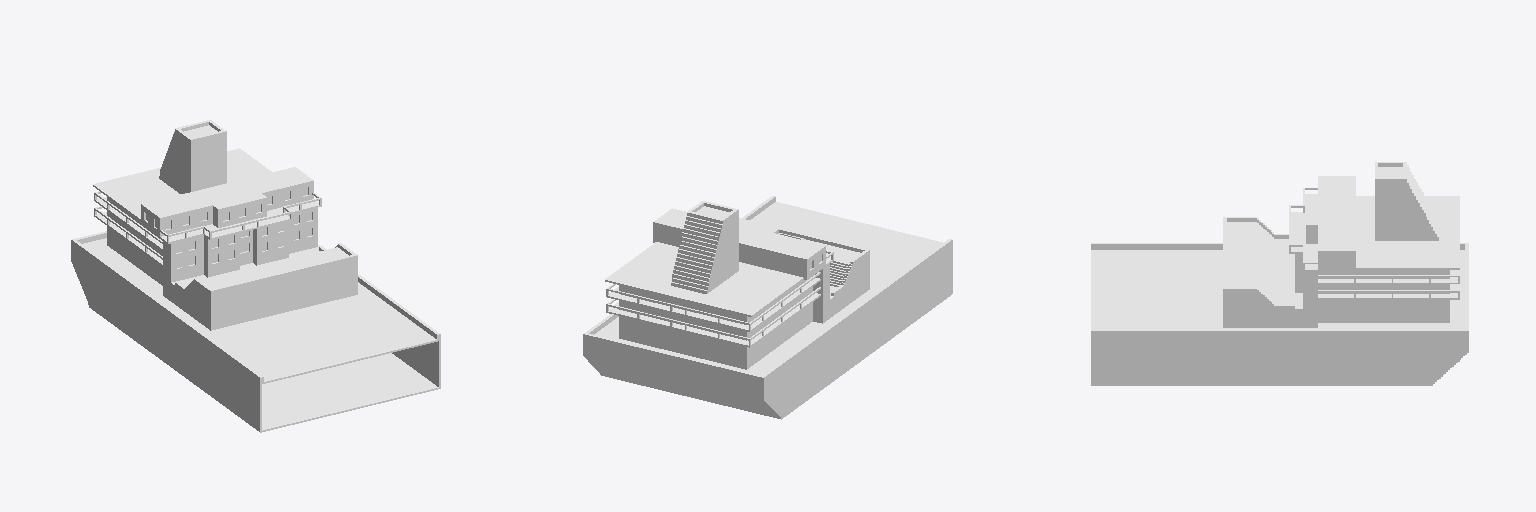
Rendered from Ship2.obj.
3 views of the same model, side by side, from view 1: azimuth 30°, elevation 25°; view 2: azimuth 150°, elevation 25°; view 3: azimuth 270°, elevation 25° (orthographic).
Visible parts, largest first — view 1: object 1; view 2: object 1; view 3: object 1.
Boxes of the visible parts, x1=… form: object 1: x1=71, y1=120, x2=440, y2=432; object 1: x1=583, y1=196, x2=952, y2=419; object 1: x1=1091, y1=162, x2=1468, y2=385.
Size of the model in its own units: 11 by 10 by 20.